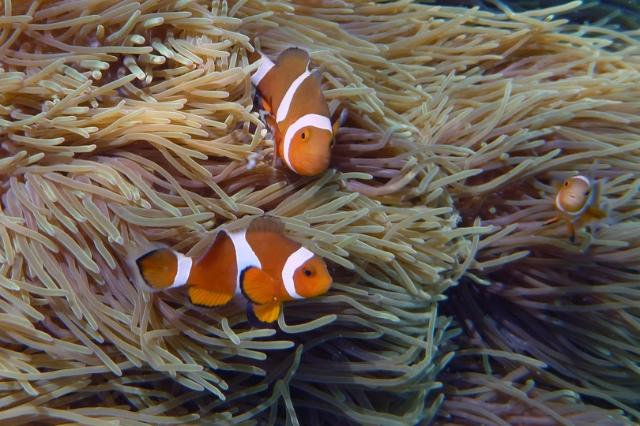Mulut: (292, 146, 338, 186), (308, 259, 342, 301), (559, 190, 587, 216)
Sirip Anal: (183, 279, 234, 321)
Sirip Dada: (228, 253, 280, 312)
Sirip Ekor: (120, 238, 184, 300)
Sirip Perut: (536, 212, 590, 252), (240, 298, 286, 340)
Sirip Punggung: (184, 210, 292, 266), (274, 38, 338, 103)
